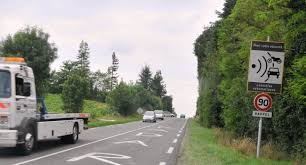Speed_limit_90km: (253, 93, 273, 112)
